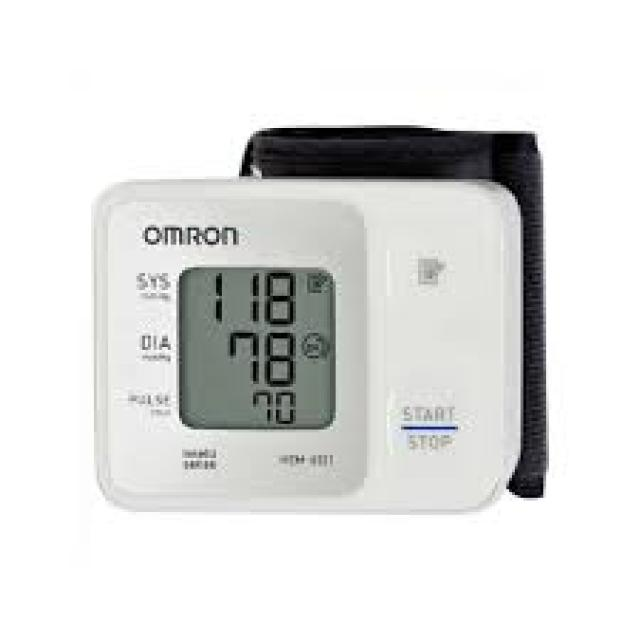dia: (223, 327, 307, 390)
pul: (249, 387, 302, 432)
ssd: (179, 267, 337, 431)
sys: (207, 268, 310, 328)
